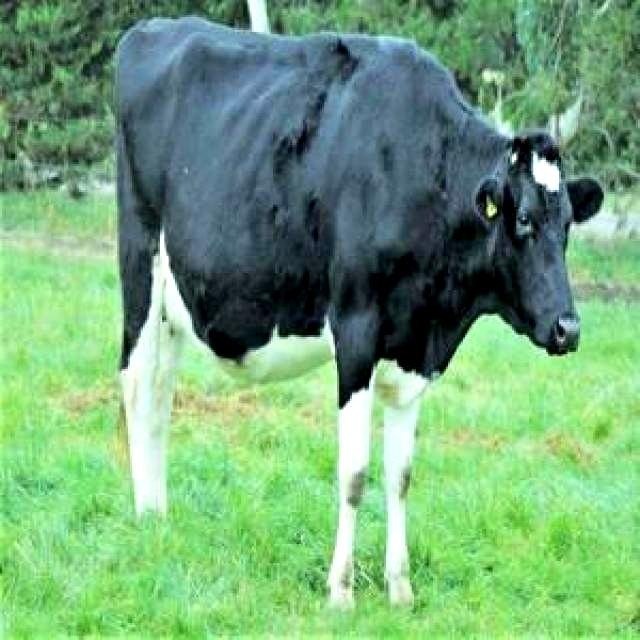COW: (115, 18, 602, 607)
